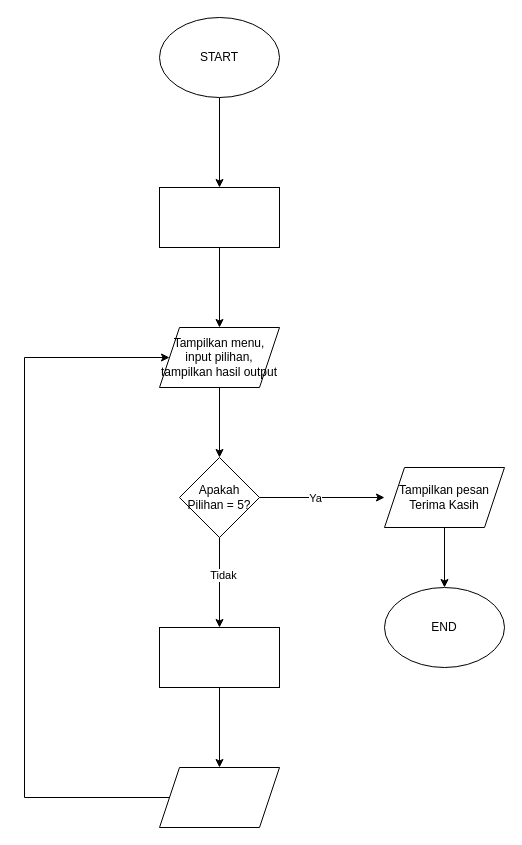
Some shapes in this 522 by 845 pixel diagram are drawn without their labels. The centre of each missing label's shape, as x and y in pixels:
"Eksekusi Operasi CRUD (1-4): Tambah, Lihat, Ubah, Hapus" goes at (x=219, y=657).
"Inisiasi data & Eksekusi operasi CRUD" goes at (x=219, y=217).
"Tampilkan output hasil & Total poin Warga" goes at (x=219, y=797).
